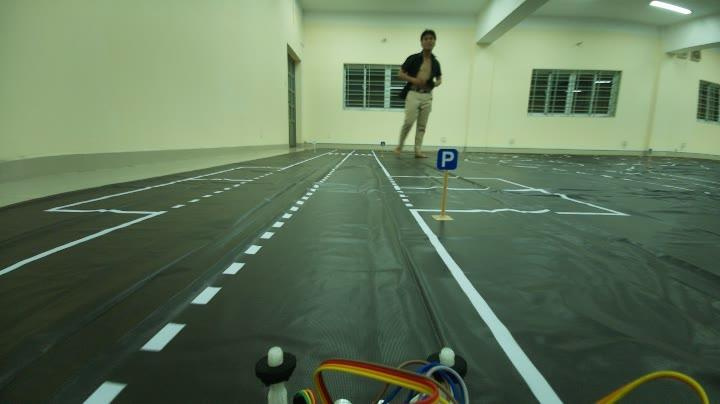parking: (434, 144, 458, 173)
